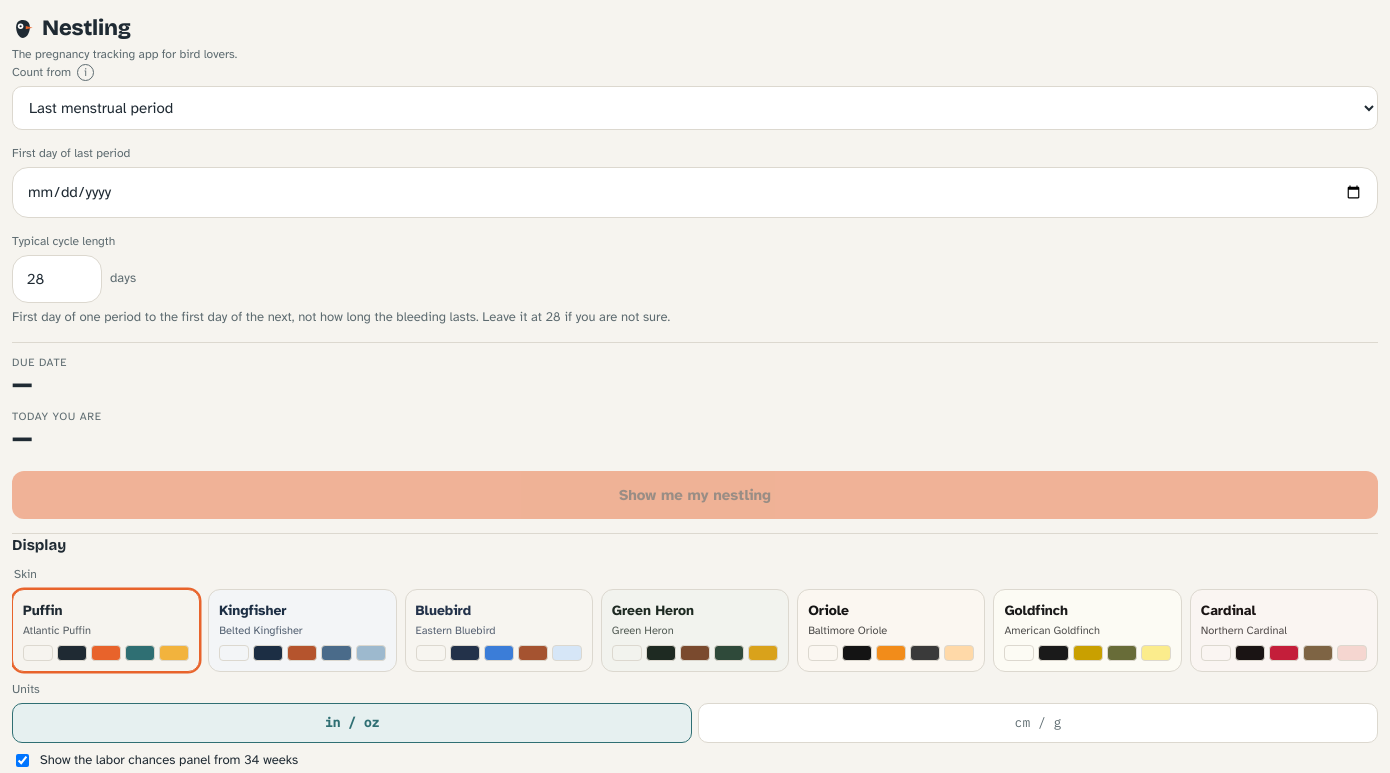
Setup screen (mockup 1) › hides the calculation details until the info button is pressed
The image size is (1390, 773).
Click the button named "How each method is calculated" at (86, 72), box [77,64,94,80]
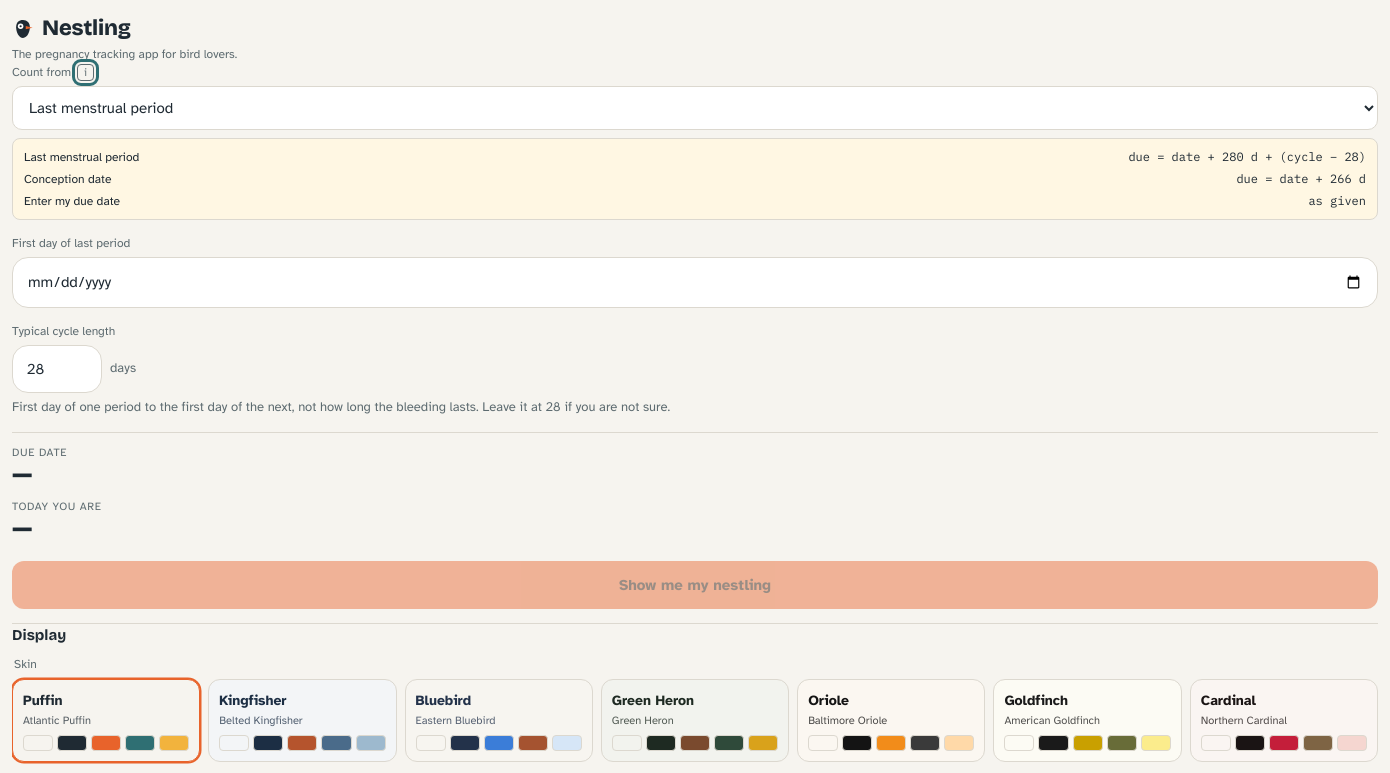
Expected: the button named "How each method is calculated" is expanded, [77,64,94,80]
Expected: the text "due = date + 280 d + (cycle − 28)" is shown, [1128,148,1366,166]
Expected: the text "due = date + 266 d" is shown, [1236,170,1366,188]
